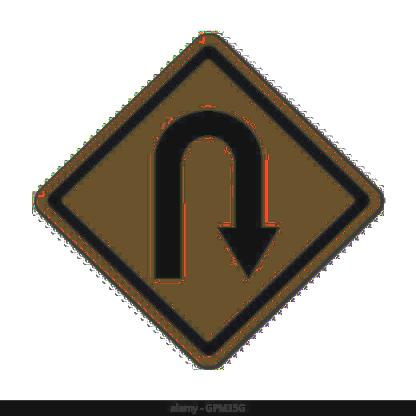U-turn: (35, 34, 386, 370)
